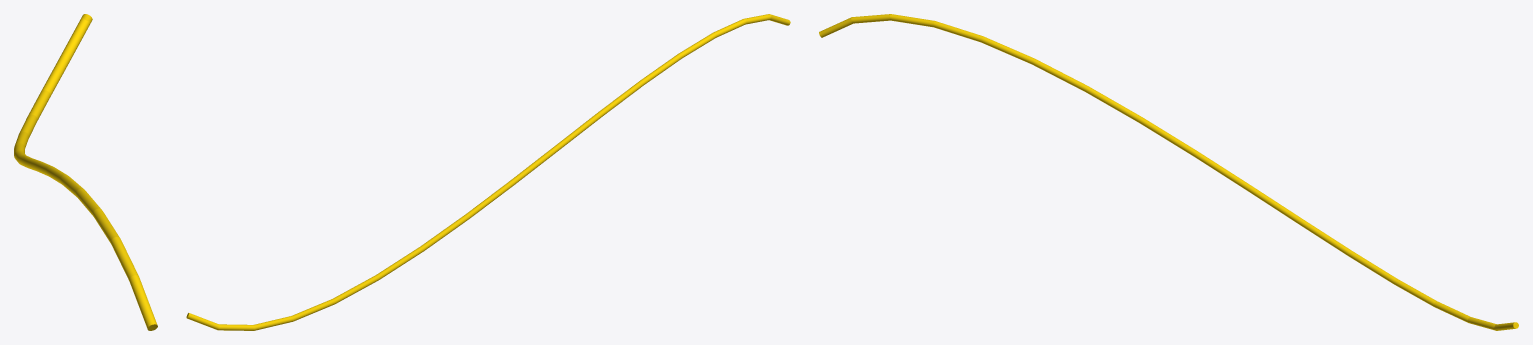
The model's file is Event_421556567_track_20.fbx.
3 renders of one model, left to right at view 1: azimuth 90°, elevation 25°; view 2: azimuth 210°, elevation 25°; view 3: azimuth 330°, elevation 25°, orthographic. The views are drawn at different scales.
Parts seen in each view (by area): view 1: Model; view 2: Model; view 3: Model.
Boxes of the visible parts, left/top/right/bottom form: Model: left=14, top=14, right=157, bottom=330; Model: left=186, top=14, right=790, bottom=330; Model: left=819, top=14, right=1518, bottom=330.
Bounding box in the file's own units: 4.74 × 1.26 × 0.5308.
